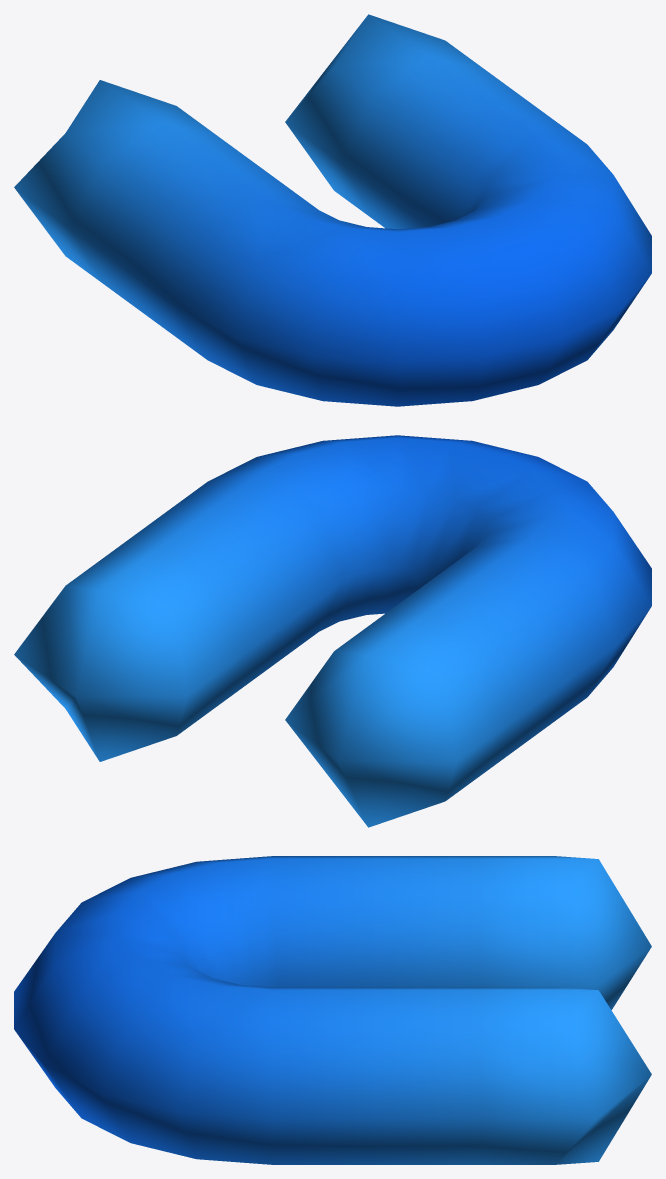
Rendered from CartoonFont_U.FBX.
3 views of the same model, one above another, from view 1: azimuth 30°, elevation 25°; view 2: azimuth 150°, elevation 25°; view 3: azimuth 270°, elevation 25° (orthographic).
Visible parts, largest first — view 1: U; view 2: U; view 3: U.
Boxes of the visible parts, <box> form: U: <box>14,14,651,406</box>; U: <box>14,435,651,827</box>; U: <box>14,856,651,1164</box>.
Bounding box in the file's own units: 25.76 × 9.55 × 32.18.
Materials: 1 (1 with a texture image).
